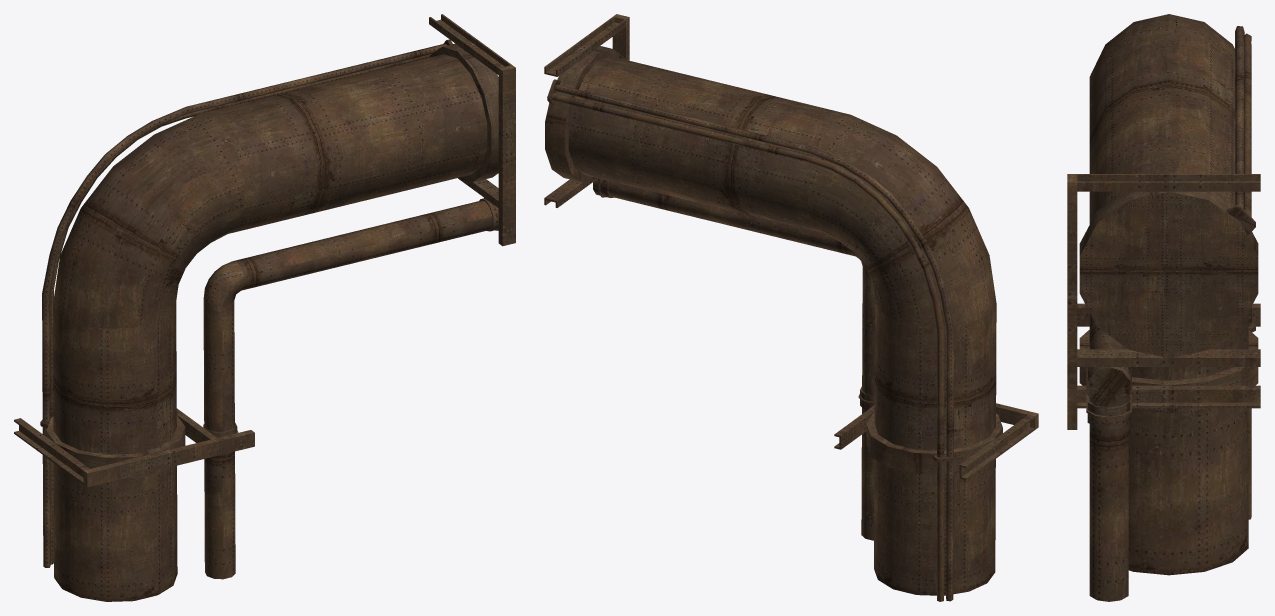
The model's file is pipeset32d_corner128d_001a.glb.
The picture shows the model from 3 angles, left to right: view 1: azimuth 30°, elevation 25°; view 2: azimuth 150°, elevation 25°; view 3: azimuth 270°, elevation 25°; orthographic projection. The views are drawn at different scales.
Parts seen in each view (by area): view 1: 0_pipeset_metal; view 2: 0_pipeset_metal; view 3: 0_pipeset_metal.
Boxes of the visible parts, <box> form: 0_pipeset_metal: <box>14,14,515,601</box>; 0_pipeset_metal: <box>544,14,1038,601</box>; 0_pipeset_metal: <box>1067,14,1260,601</box>.
Size of the model in its own units: 3.25 by 3.25 by 0.9654.
Materials: 1 (1 with a texture image).
